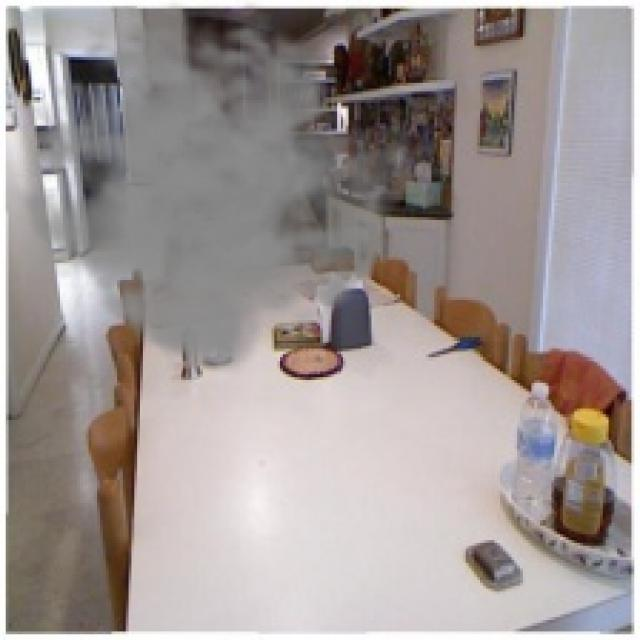smoke: (2, 0, 429, 375)
